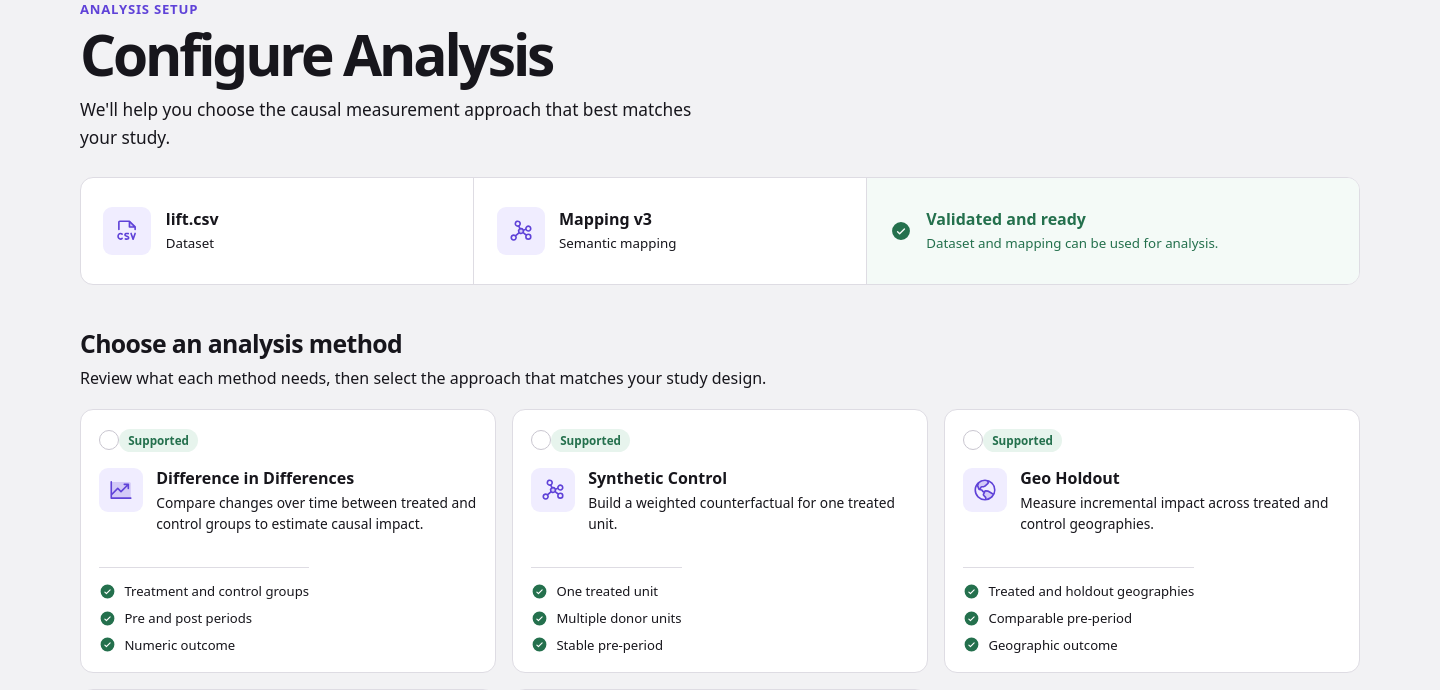
Test: Analysis Configuration filters and selections › moves from a valid period to filters using real scoped dataset columns
This screenshot has width=1440, height=690.
Click the button "Difference in Differences": (159, 440) [80,409,496,673]
(page scrolled)
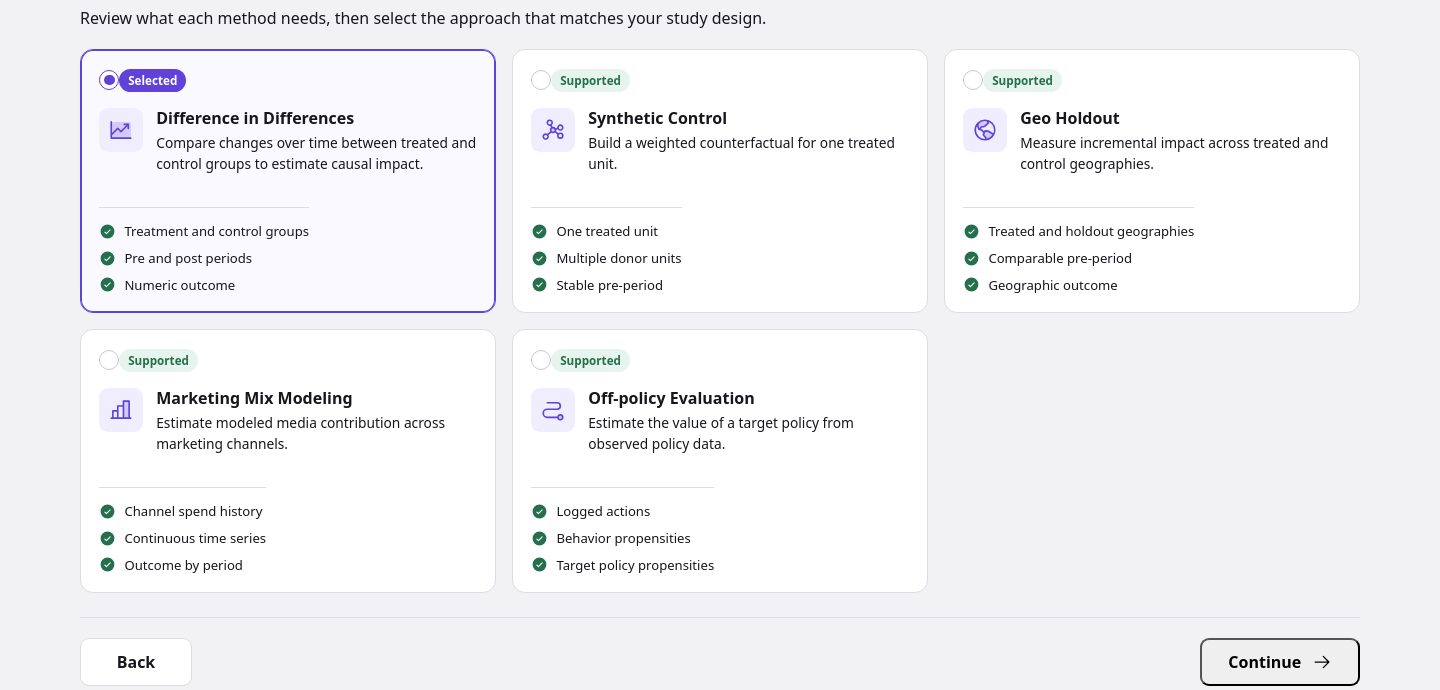
Click the button "Continue": (1280, 662) [1200,638,1360,686]
(page scrolled)
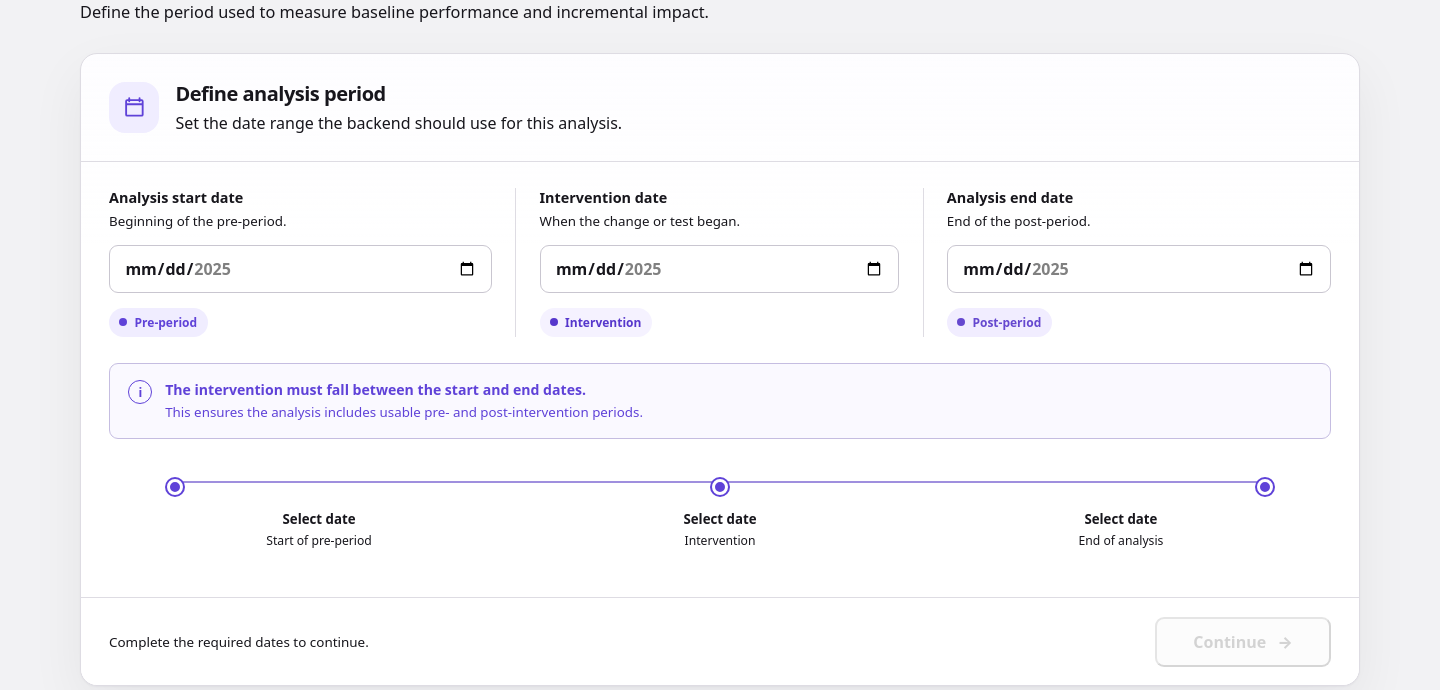
In the date field labelled "Analysis start date": (301, 269) [109,245,492,293], type "2025-01-01"
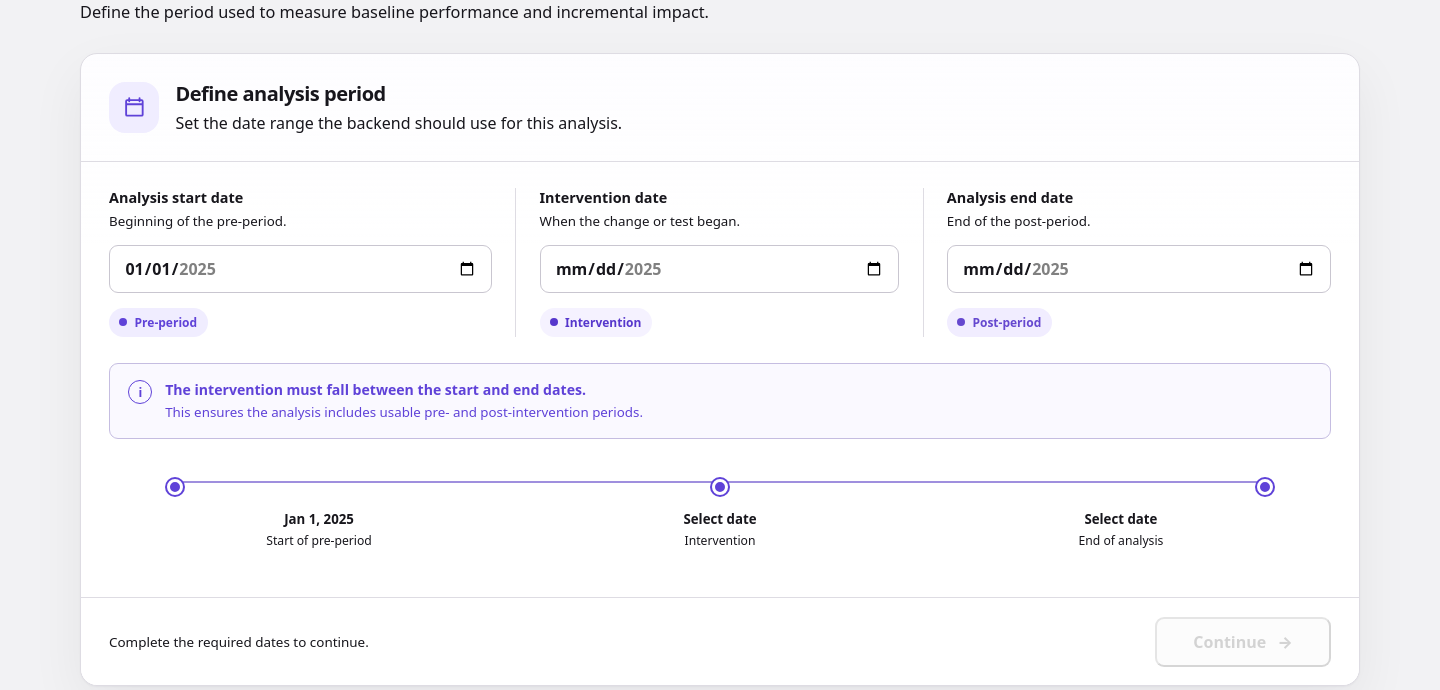
In the date field labelled "Intervention date": (720, 269) [540,245,900,293], type "2025-02-01"
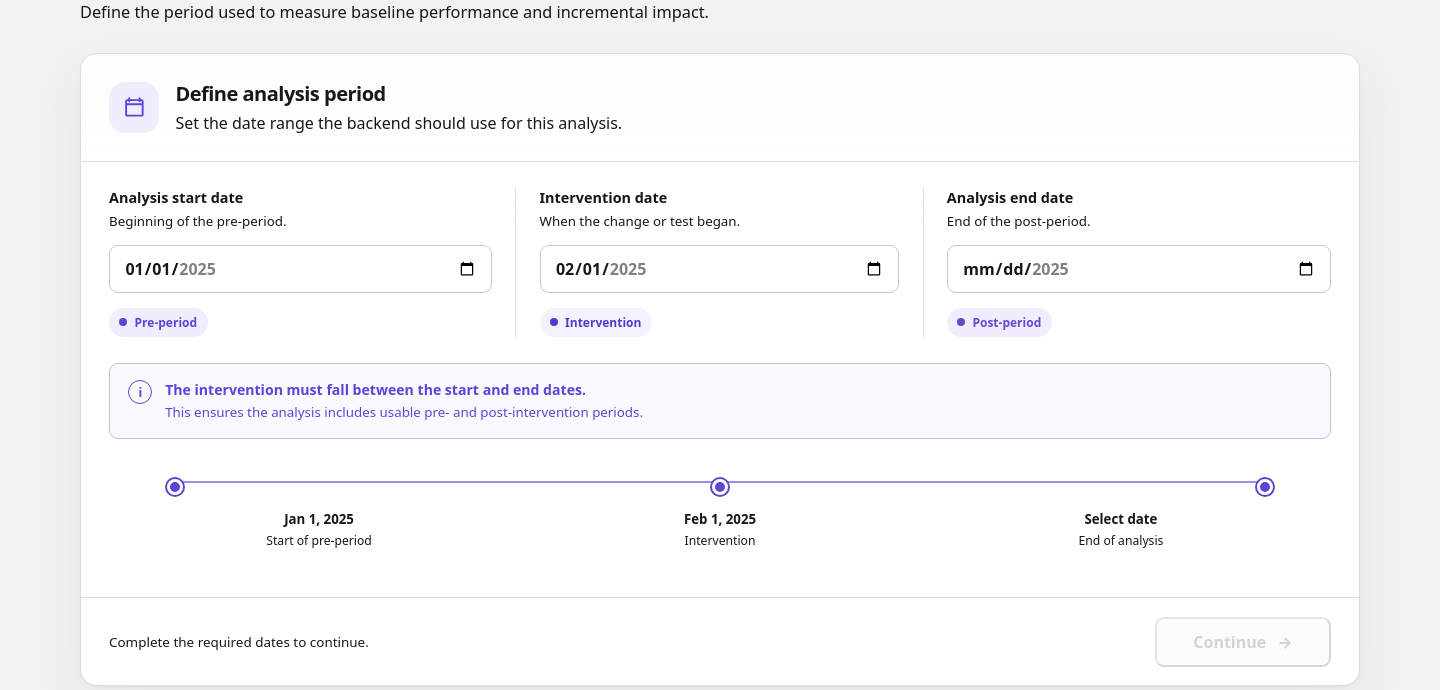
In the date field labelled "Analysis end date": (1139, 269) [947,245,1331,293], type "2025-03-31"
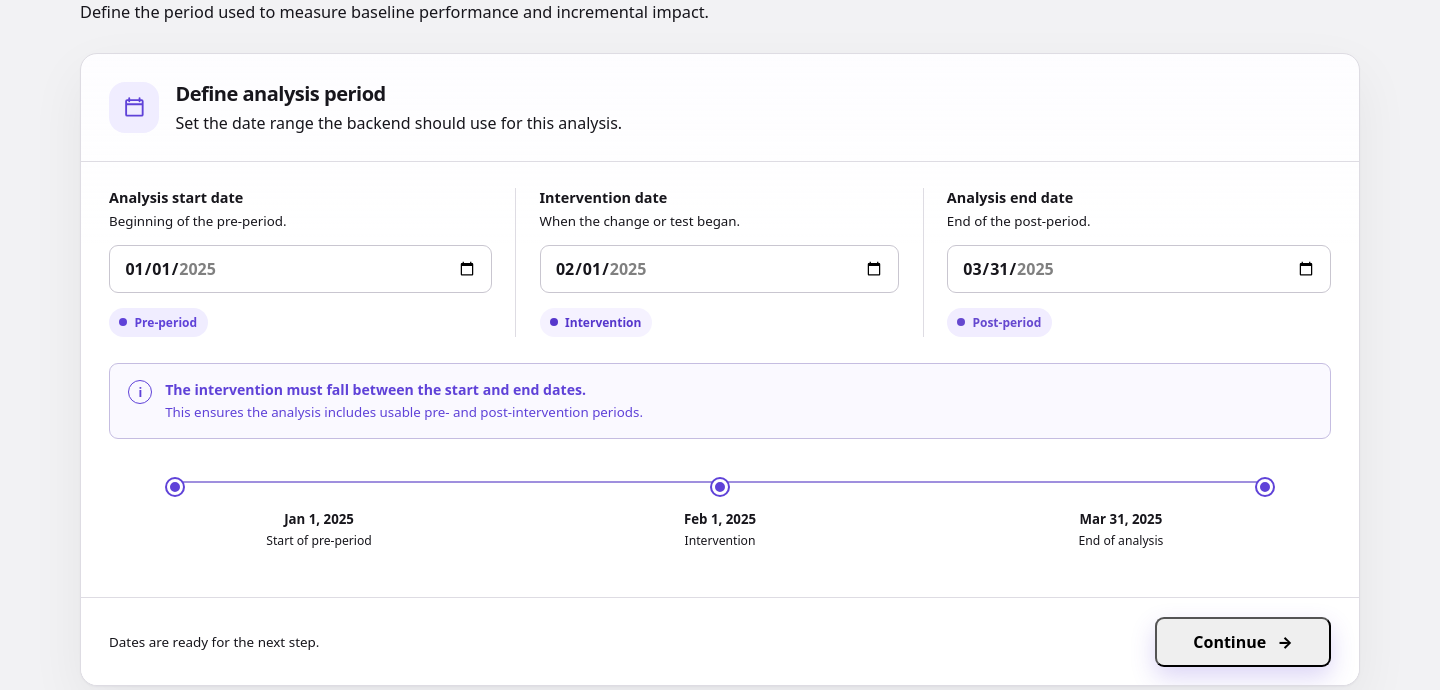
Click the button "Continue →": (1243, 642) [1155,617,1331,667]
(page scrolled)
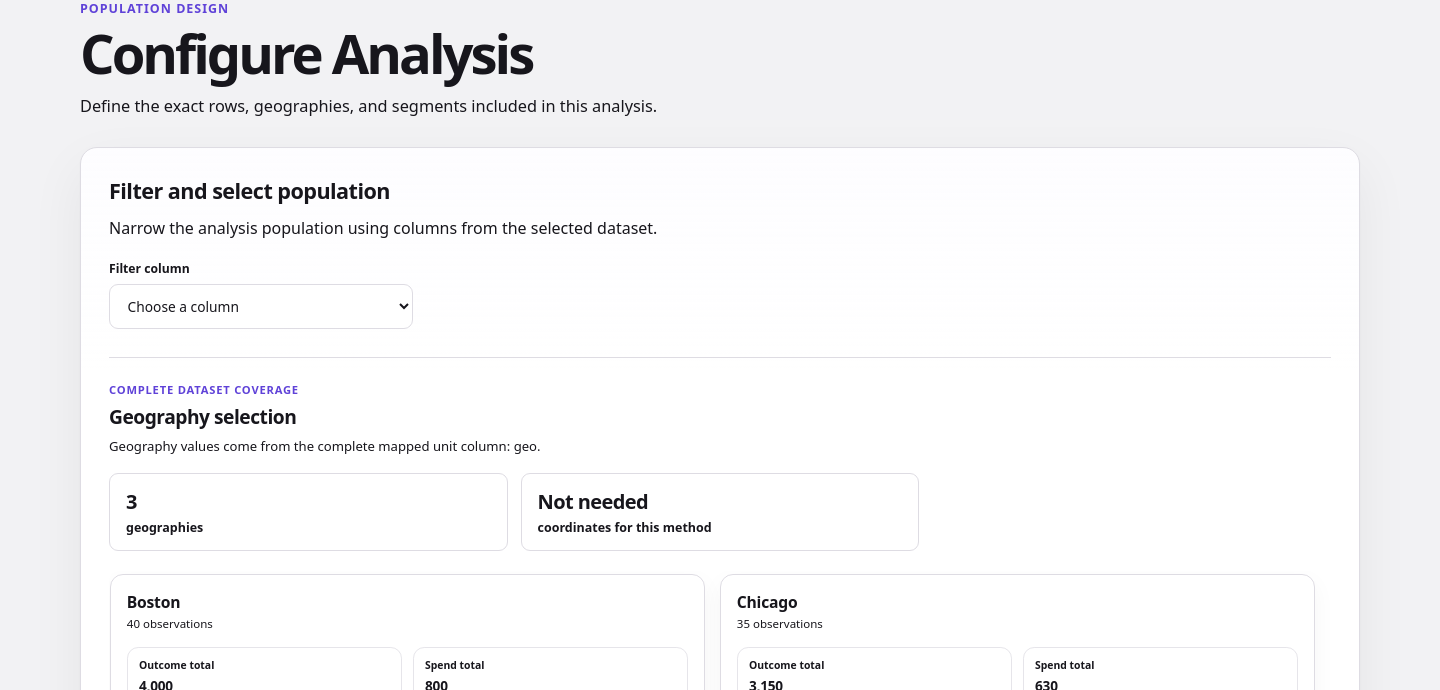
Expected: the heading "Filter and select population" is shown, [109,176,390,205]
